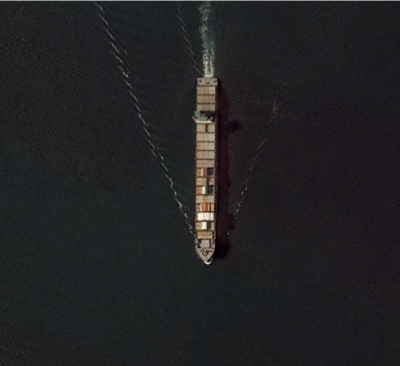boat: (192, 77, 218, 266)
